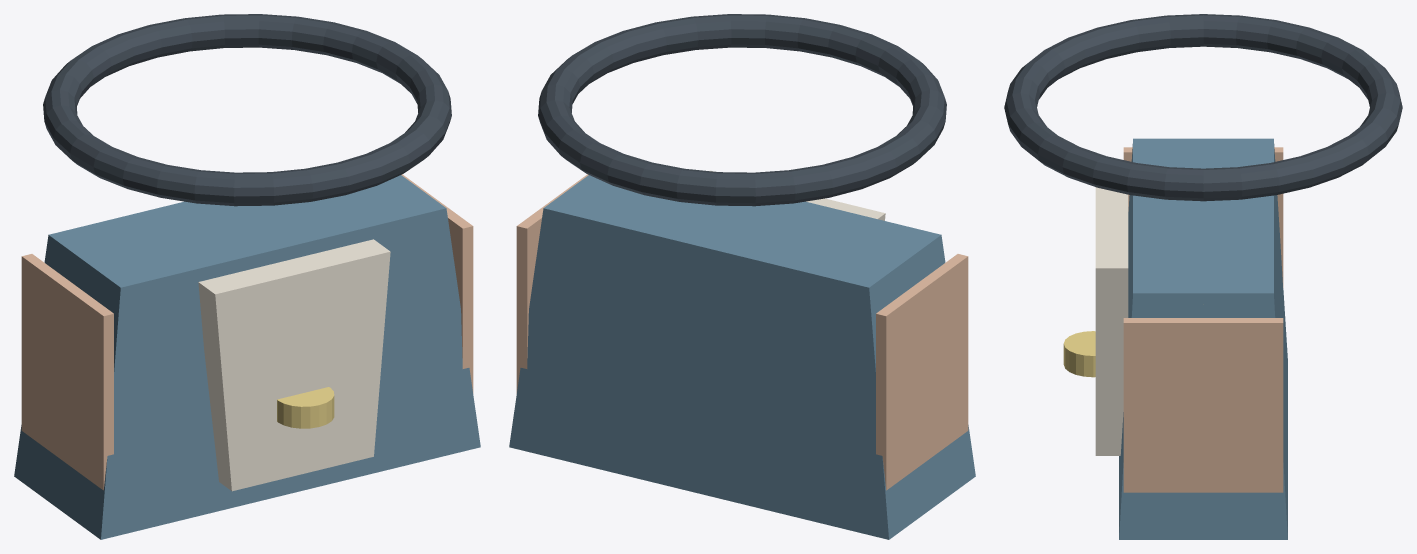
File: bag_premium.glb
3 renders of one model, left to right at view 1: azimuth 30°, elevation 25°; view 2: azimuth 150°, elevation 25°; view 3: azimuth 270°, elevation 25°, orthographic. The views are drawn at different scales.
Visible parts, largest first — view 1: BagBody, CenterStrap, Handle, Piping-0.43, Piping0.43, Button; view 2: BagBody, Handle, Piping-0.43, Piping0.43, CenterStrap; view 3: BagBody, Handle, Piping0.43, CenterStrap, Button, Piping-0.43.
Part boxes in pixels (<box>): BagBody: <box>14,175,480,539</box>; CenterStrap: <box>198,239,390,491</box>; Handle: <box>43,14,451,206</box>; Piping-0.43: <box>21,254,113,490</box>; Piping0.43: <box>401,174,473,393</box>; Button: <box>277,387,334,428</box>; BagBody: <box>509,175,975,539</box>; Handle: <box>538,14,946,206</box>; Piping-0.43: <box>876,254,968,490</box>; Piping0.43: <box>516,174,588,393</box>; CenterStrap: <box>709,170,885,220</box>; BagBody: <box>1119,138,1287,539</box>; Handle: <box>1004,14,1402,201</box>; Piping0.43: <box>1123,318,1283,492</box>; CenterStrap: <box>1095,187,1128,455</box>; Button: <box>1063,331,1095,377</box>; Piping-0.43: <box>1123,147,1283,287</box>.
Bounding box in the file's own units: 0.91 × 0.84 × 0.85.
